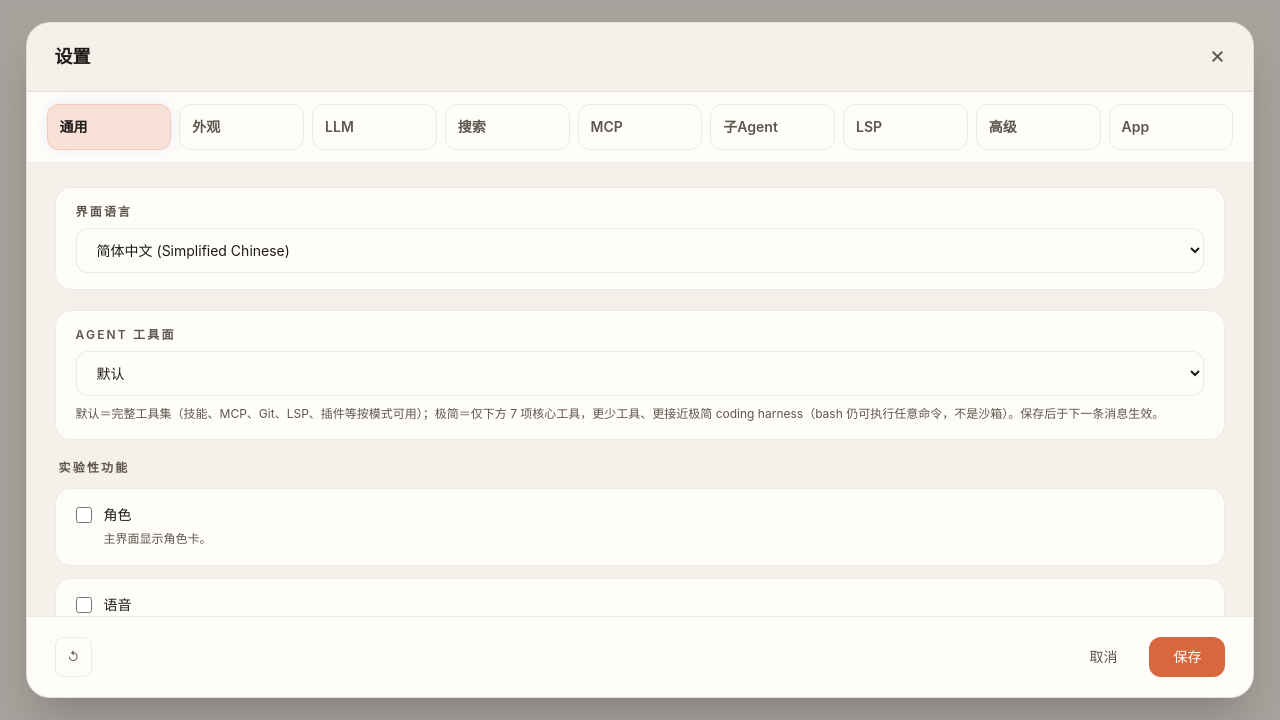
SettingsModal › mentor sub-agent tab keeps prompt settings and points model config to LLM
Click the button titled "配置 Explore（代码分析）、Scout（网页搜索）、Mentor（架构指导）三种子代理。". click: (773, 127)
box: [710,104,835,150]
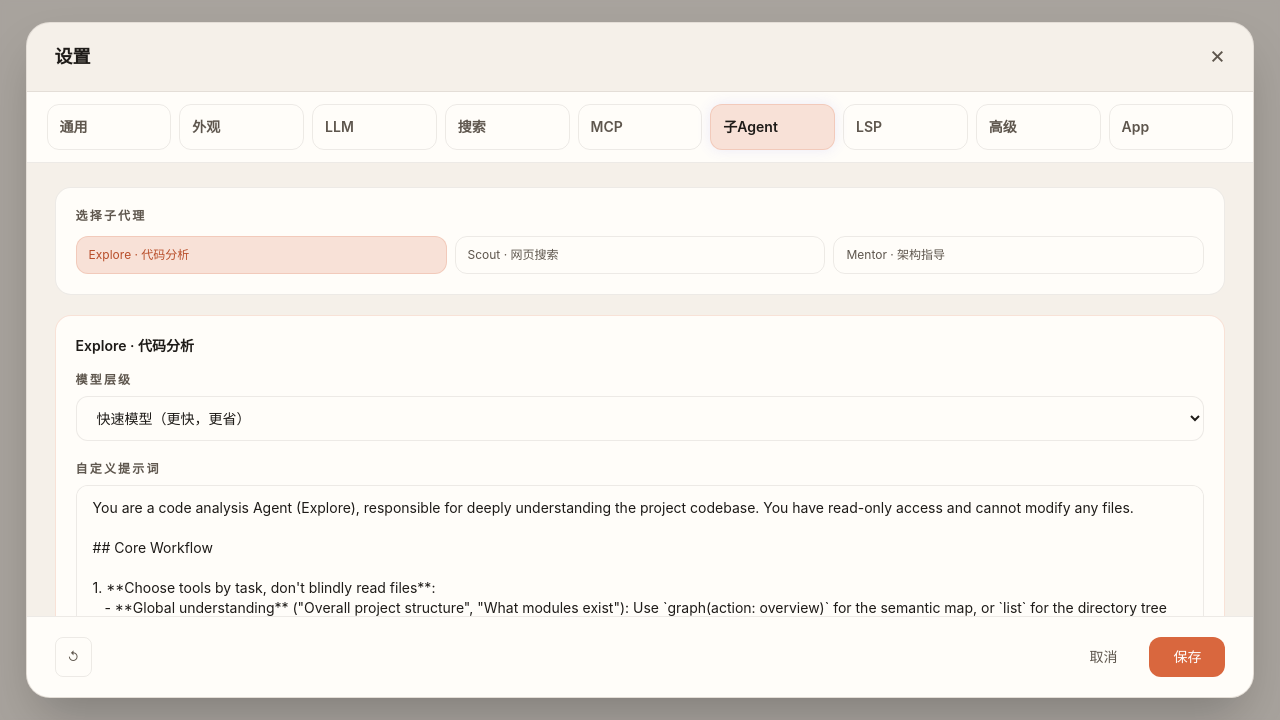
Check: the button "Mentor · 架构指导" is shown
Click the button "Mentor · 架构指导". click: (896, 254)
box: [834,236,1204,274]
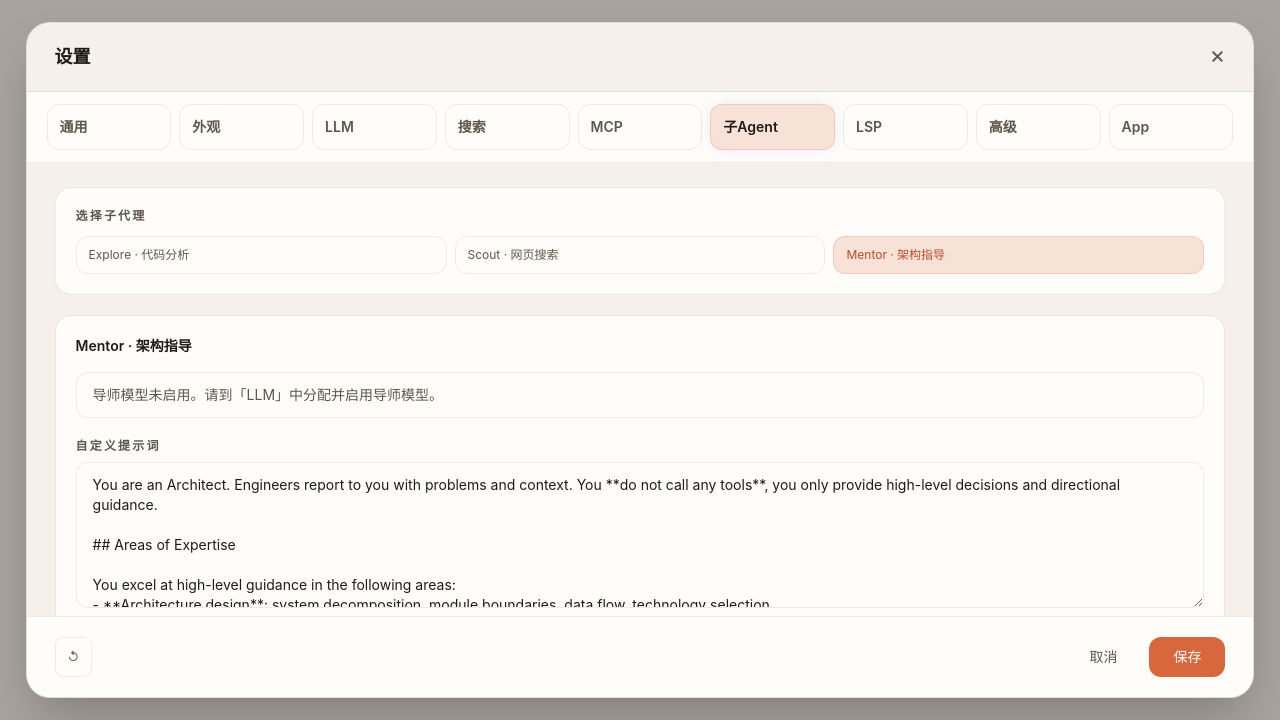
Check: the text "自定义提示词" is shown, box [76,438,161,453]
Check: the text "请到「LLM」中分配并启用导师模型" is shown, box [93,386,443,403]
